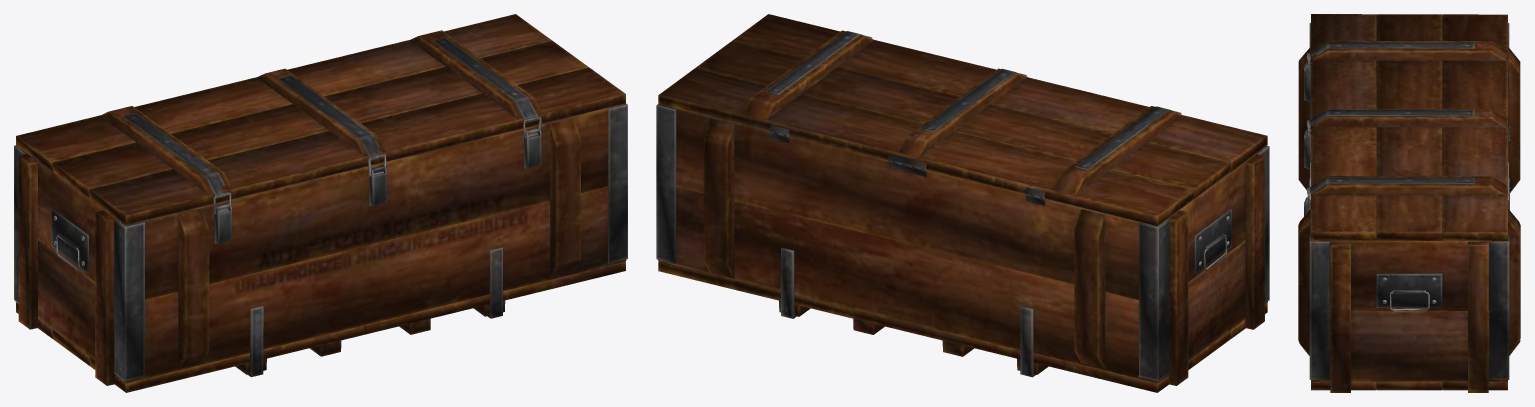
The model's file is wooden_military_crate.glb.
The picture shows the model from 3 angles, left to right: view 1: azimuth 30°, elevation 25°; view 2: azimuth 150°, elevation 25°; view 3: azimuth 270°, elevation 25°; orthographic projection. The views are drawn at different scales.
Visible parts, largest first — view 1: wooden_military_crate, wooden_military_crate_lid; view 2: wooden_military_crate, wooden_military_crate_lid; view 3: wooden_military_crate_lid, wooden_military_crate.
Boxes of the visible parts, <box> form: wooden_military_crate: <box>14,103,627,392</box>; wooden_military_crate_lid: <box>16,14,625,224</box>; wooden_military_crate: <box>656,104,1269,392</box>; wooden_military_crate_lid: <box>658,14,1267,225</box>; wooden_military_crate_lid: <box>1307,14,1510,240</box>; wooden_military_crate: <box>1298,23,1520,392</box>.
Size of the model in its own units: 1.24 by 0.464 by 0.5179.
1 material, 1 textured.
